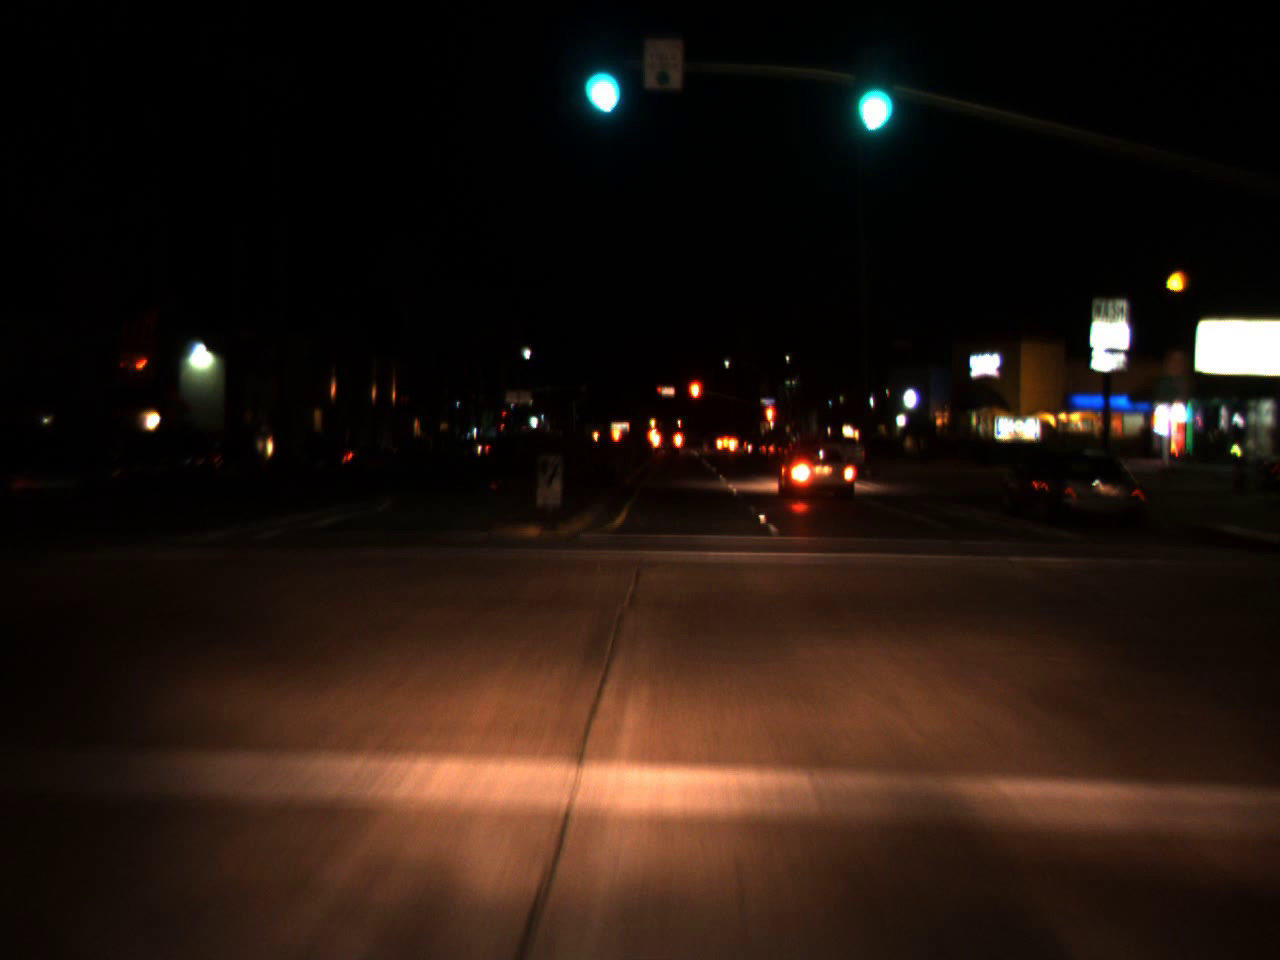go: (580, 38, 623, 125), (849, 57, 892, 138)
stop: (686, 378, 703, 421), (763, 402, 778, 445)
